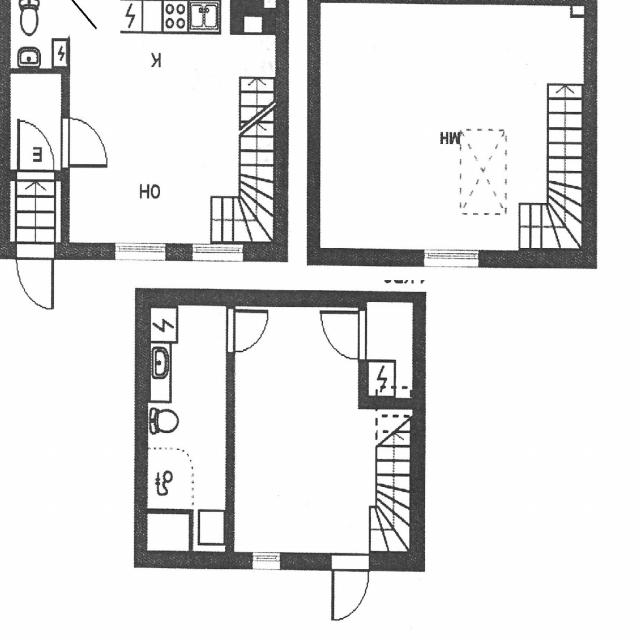door: (16, 242, 52, 306), (332, 553, 368, 616), (61, 118, 107, 166), (17, 124, 54, 180), (322, 313, 367, 359), (226, 310, 267, 352), (66, 1, 98, 38)
